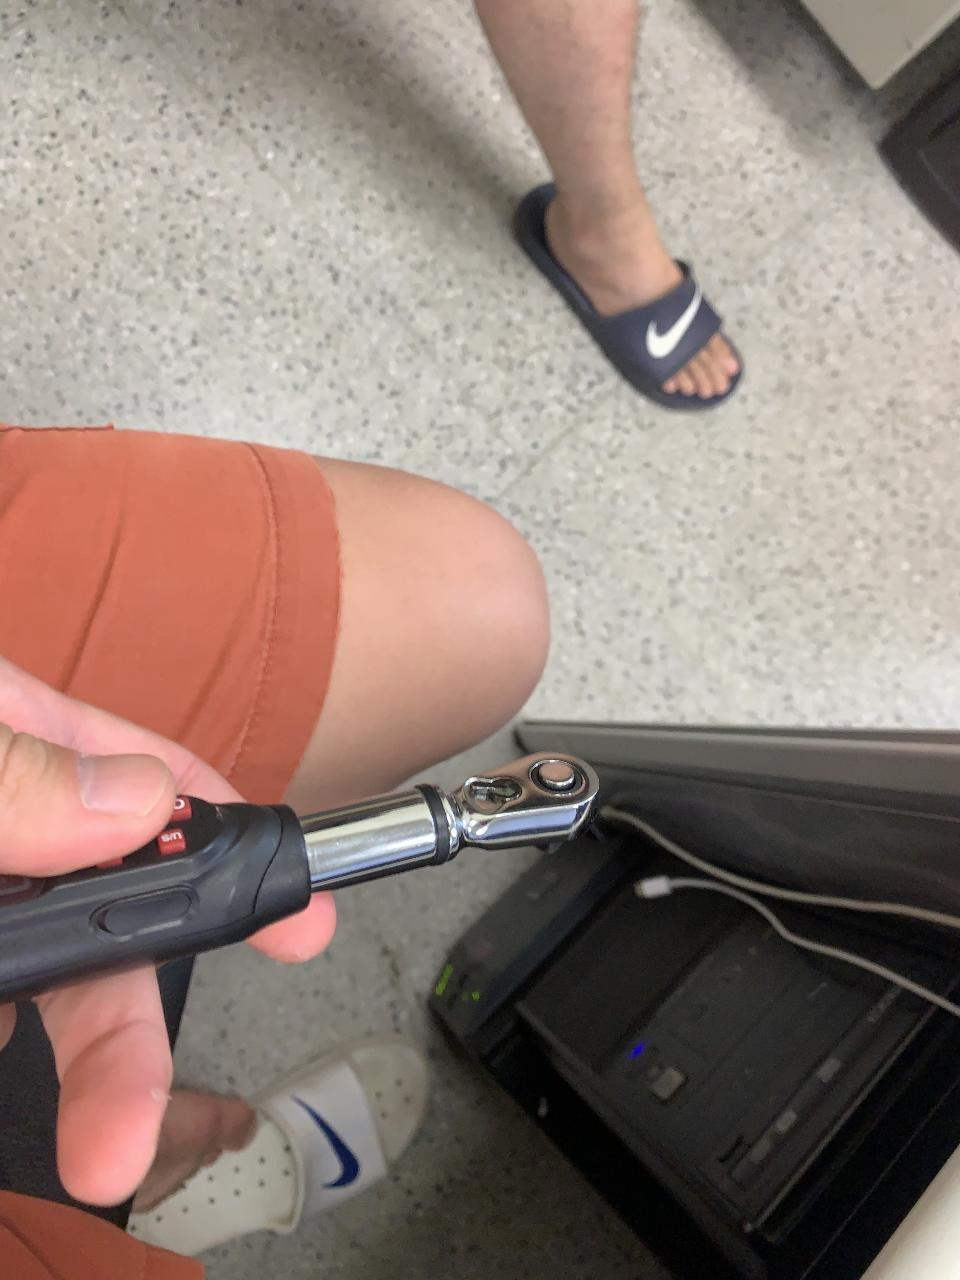Tool: (430, 751, 602, 854)
